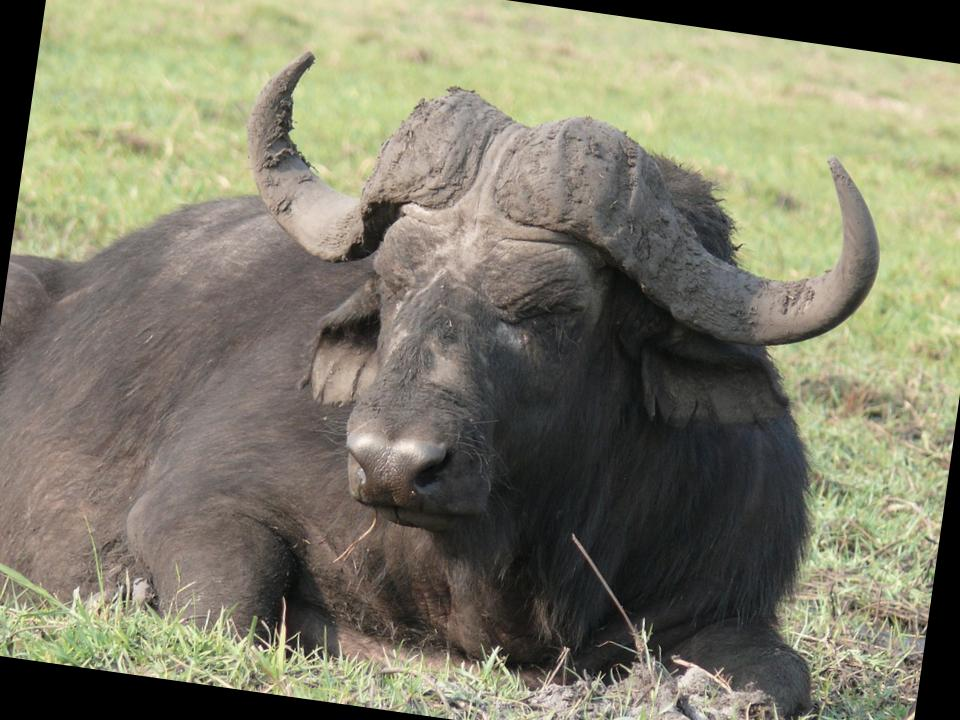Buffalo: (0, 0, 910, 720)
